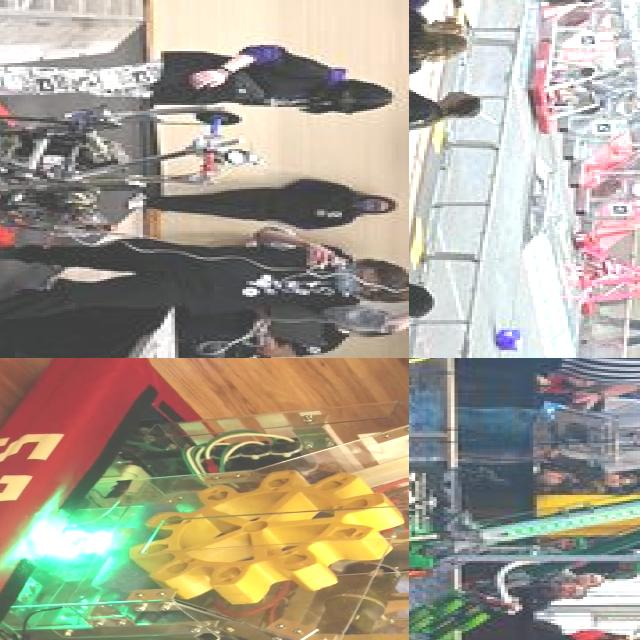FRC-Robots: (0, 358, 409, 640), (409, 379, 640, 640), (0, 45, 255, 249), (516, 14, 640, 140), (569, 192, 640, 330)
